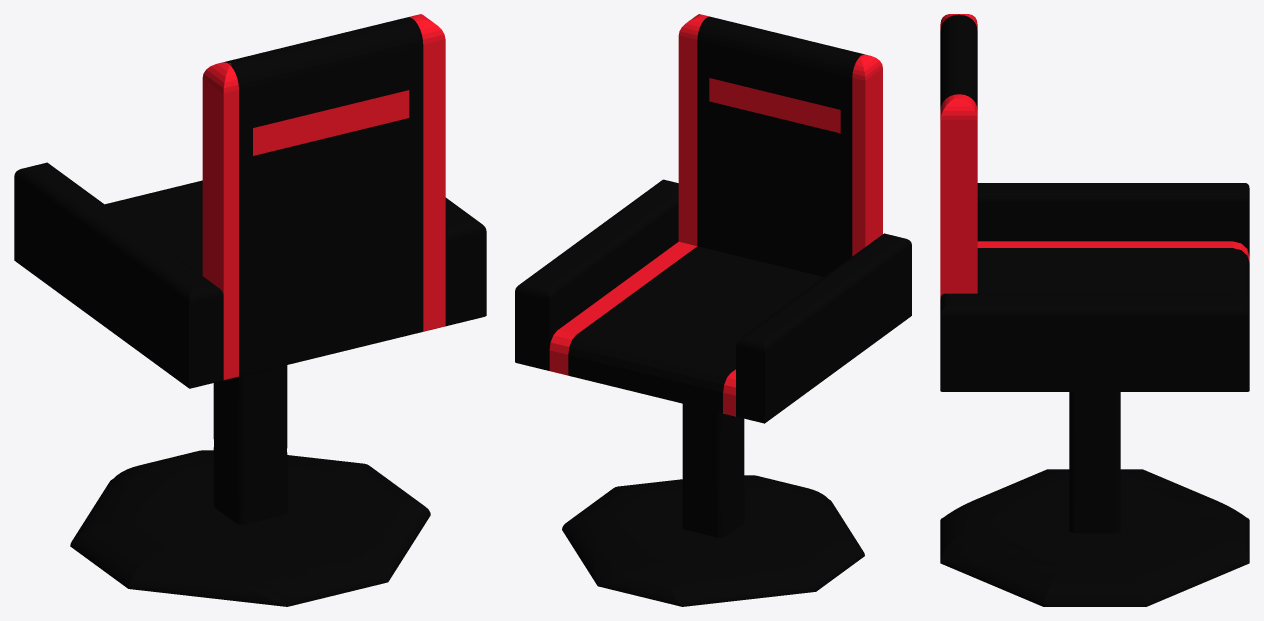
Rendered from ComputerChair(2).fbx.
The picture shows the model from 3 angles, left to right: view 1: azimuth 30°, elevation 25°; view 2: azimuth 150°, elevation 25°; view 3: azimuth 270°, elevation 25°; orthographic projection. The views are drawn at different scales.
Parts seen in each view (by area): view 1: Cube; view 2: Cube; view 3: Cube.
Part boxes in pixels (x1,y1,x2,y2): Cube: [14, 14, 486, 606]; Cube: [515, 14, 911, 606]; Cube: [940, 14, 1249, 606].
Bounding box in the file's own units: 600 × 1038 × 600.
